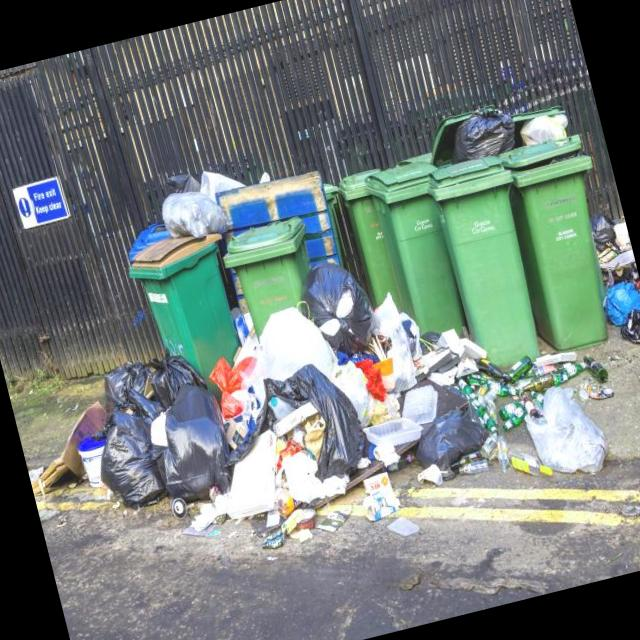high trash: (30, 263, 613, 549)
less trash: (591, 212, 640, 343)
